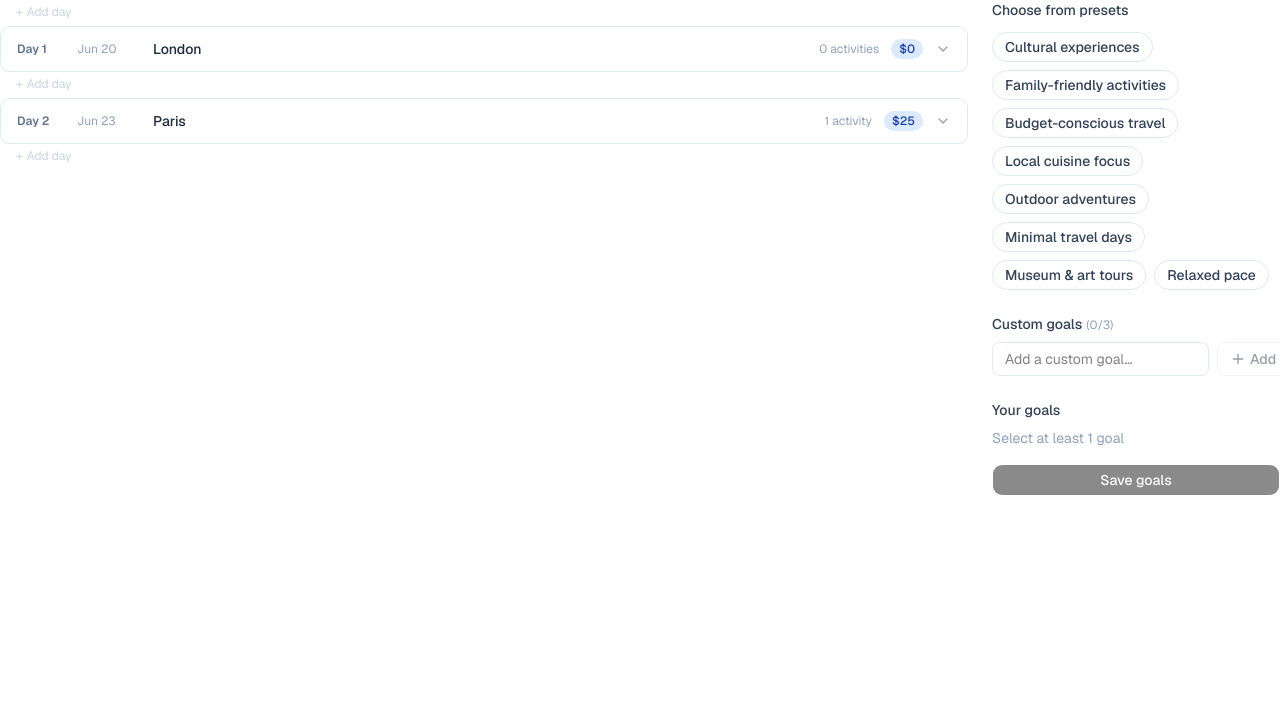
Test: clicking Remove opens the confirmation dialog with a Cancel button
Expected: the text "London" is shown, x1=153 y1=40 x2=202 y2=58
Click the text "Paris": [169, 121] box x1=153 y1=112 x2=186 y2=130
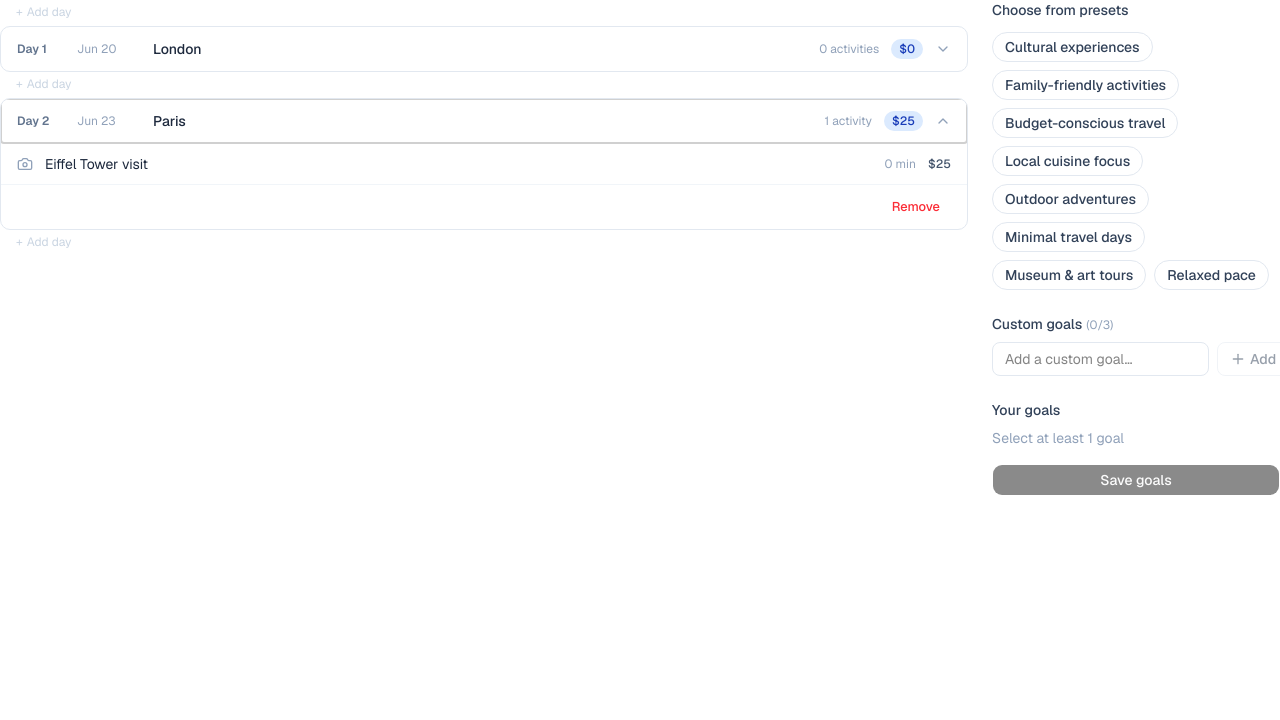
Click the button "Remove": [916, 207] box x1=881 y1=193 x2=951 y2=221
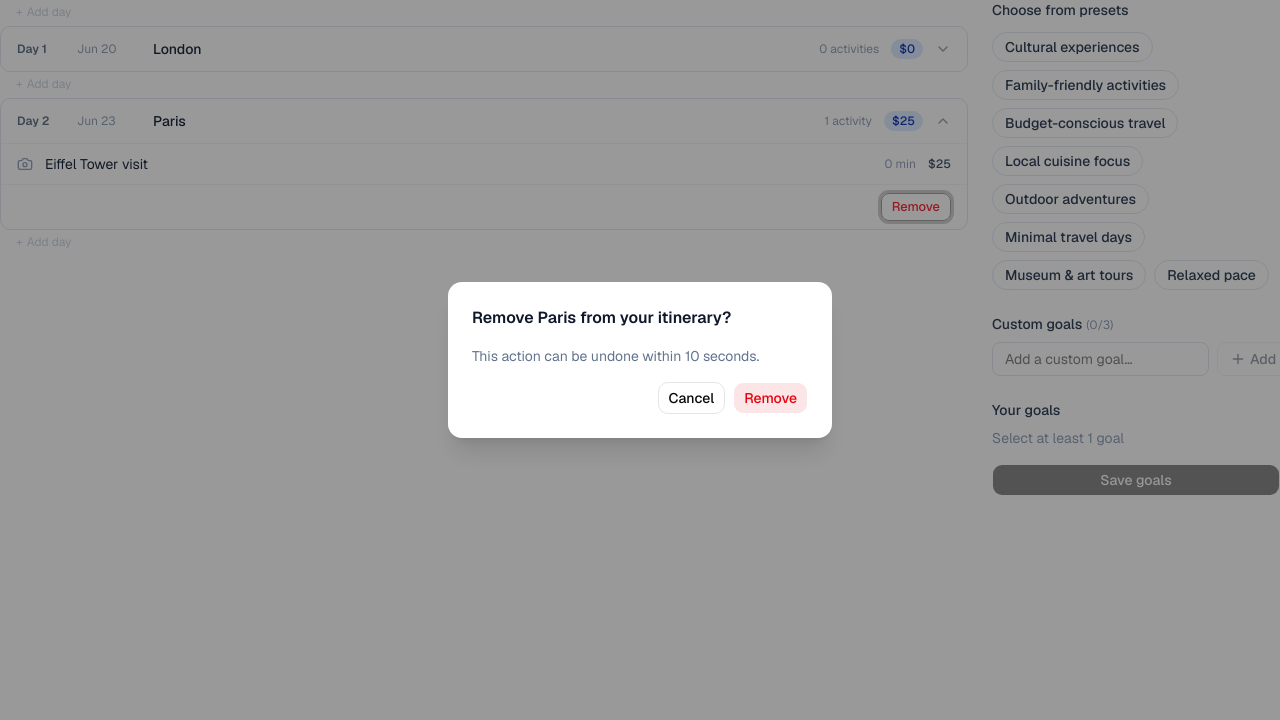
Now the button "Cancel" is shown, box x1=658 y1=382 x2=725 y2=414
